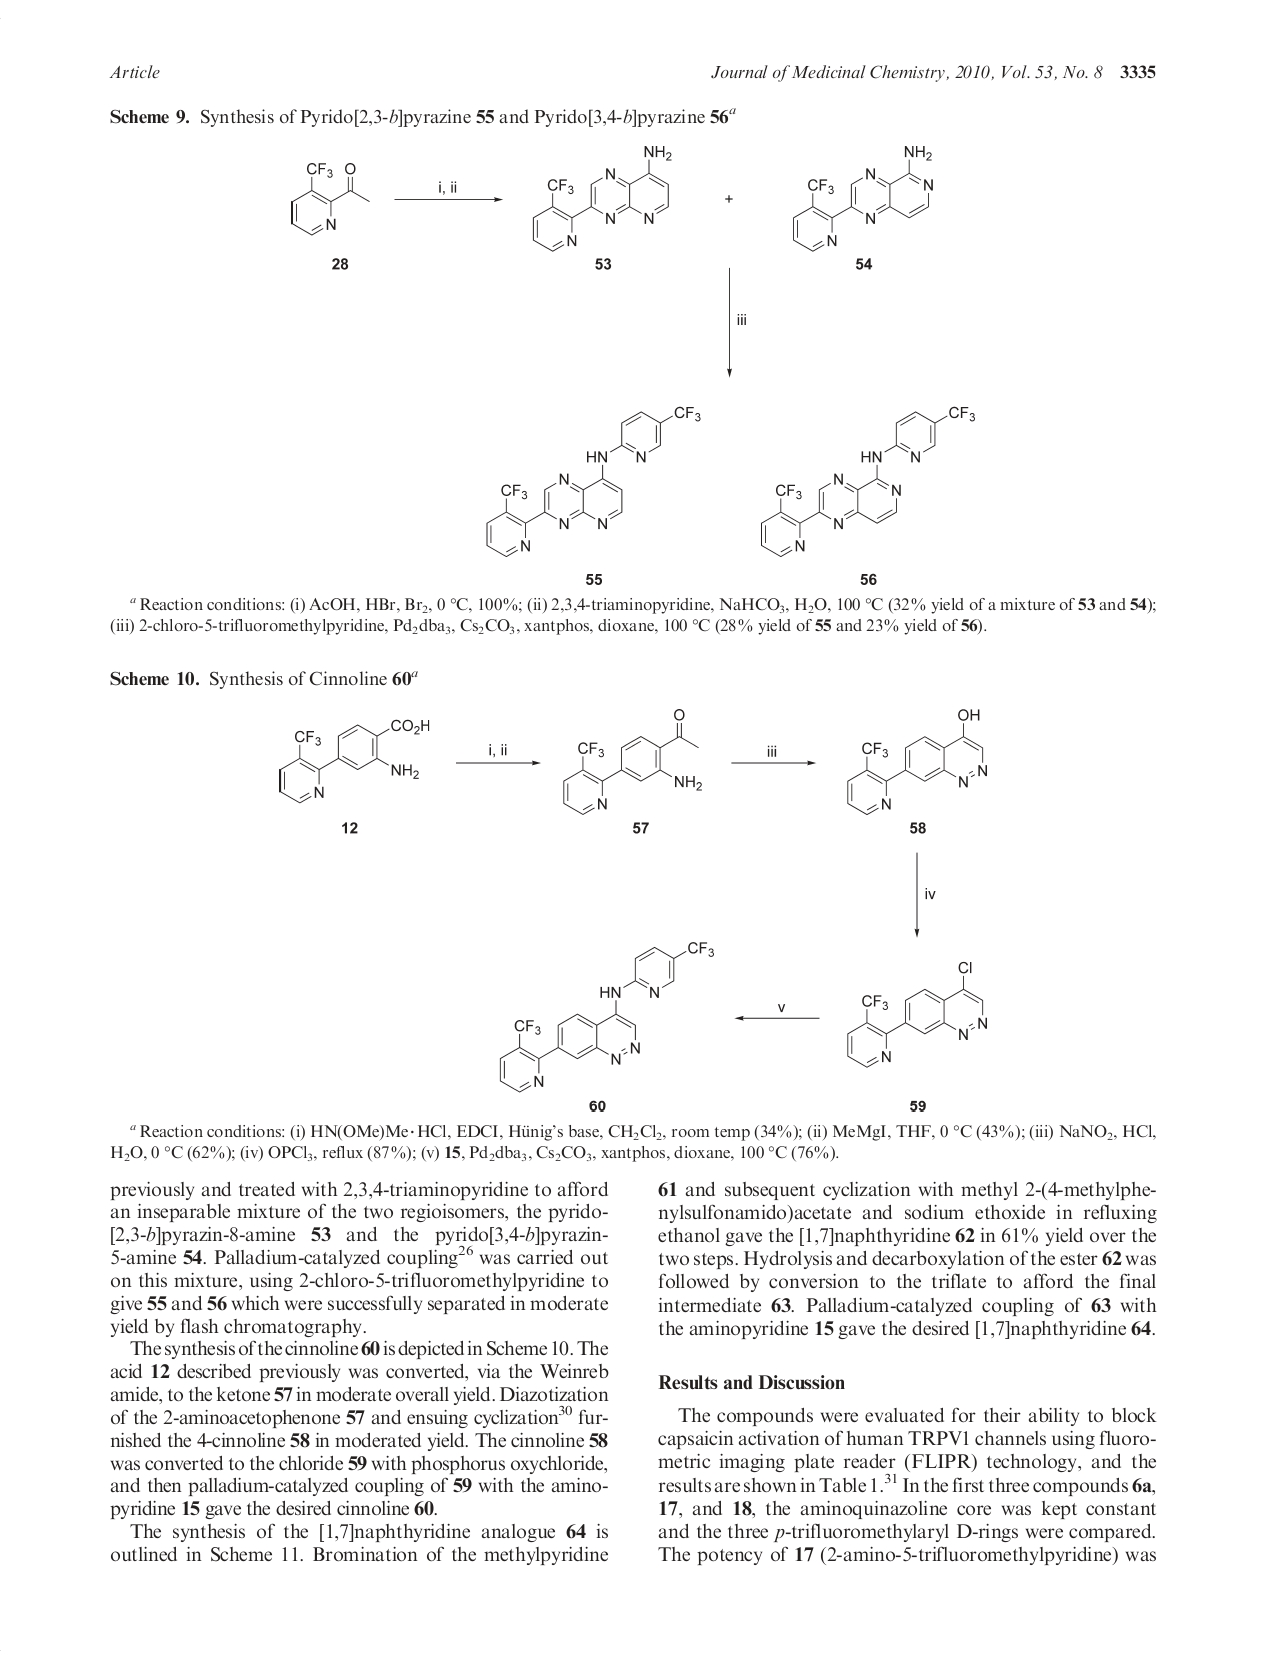exist_molecular: (499, 935, 725, 1097), (755, 398, 979, 559), (485, 400, 707, 556), (525, 140, 681, 261), (781, 140, 938, 253), (840, 705, 995, 817), (844, 958, 993, 1067), (559, 707, 703, 817), (277, 709, 436, 805), (286, 158, 368, 235)
